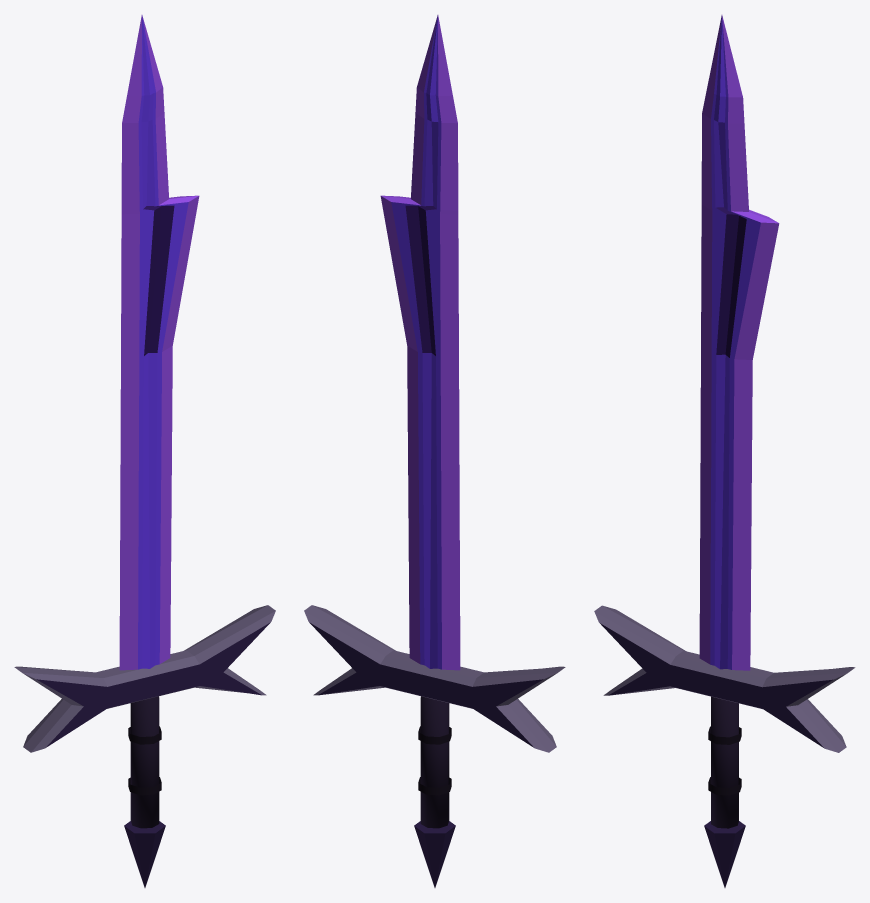
Rendered from nights_edge.glb.
3 renders of one model, left to right at view 1: azimuth 30°, elevation 25°; view 2: azimuth 150°, elevation 25°; view 3: azimuth 330°, elevation 25°, orthographic.
Parts seen in each view (by area): view 1: nights_edge_v0; view 2: nights_edge_v0; view 3: nights_edge_v0.
Boxes of the visible parts, x1,y1,x2,y2 form: nights_edge_v0: [14, 15, 275, 887]; nights_edge_v0: [304, 15, 565, 887]; nights_edge_v0: [594, 15, 855, 887].
Bounding box in the file's own units: 0.42 × 1.38 × 0.06.
